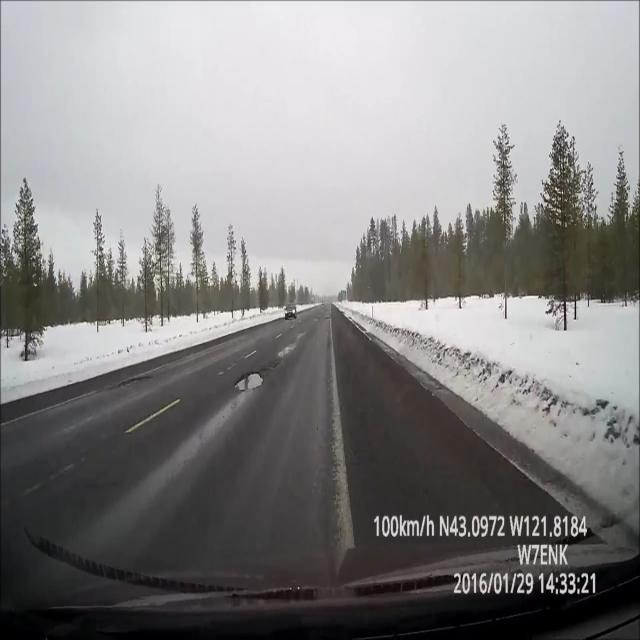Pothole: (230, 358, 276, 396)
